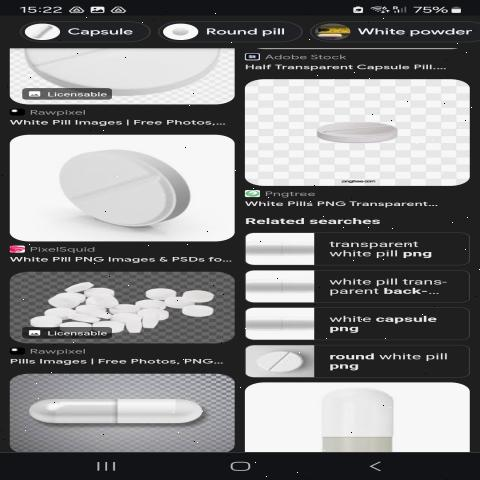Pill: (45, 144, 219, 237), (17, 380, 218, 434), (309, 111, 401, 151), (242, 350, 324, 378)
